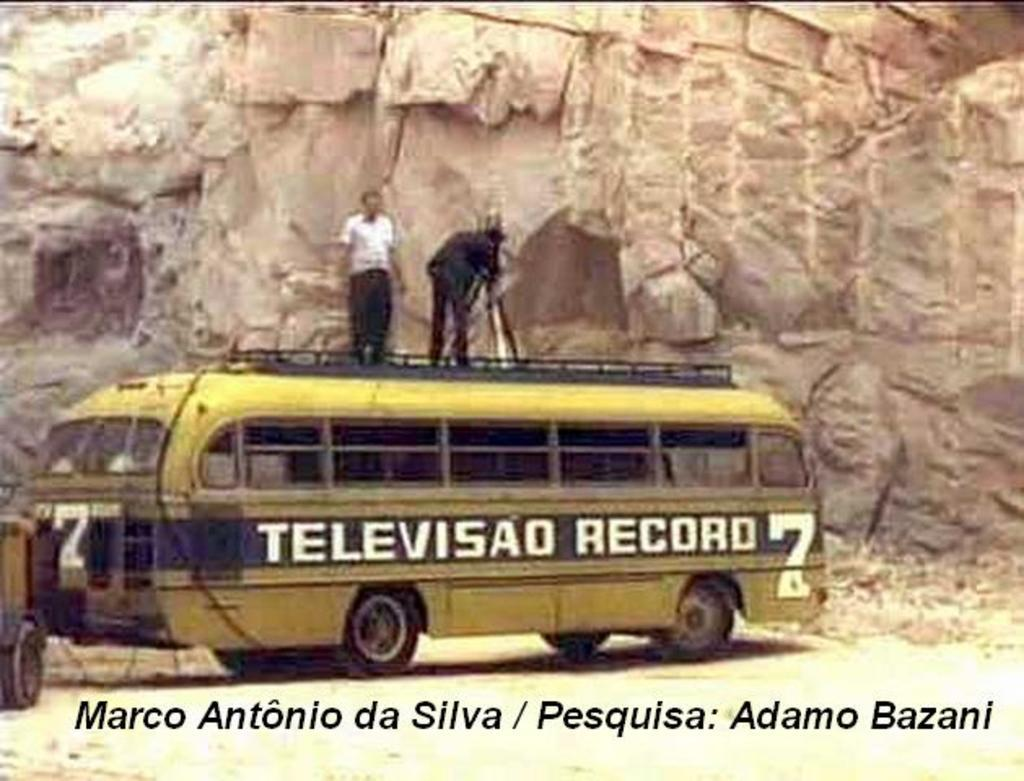Bus: (26, 347, 830, 685)
